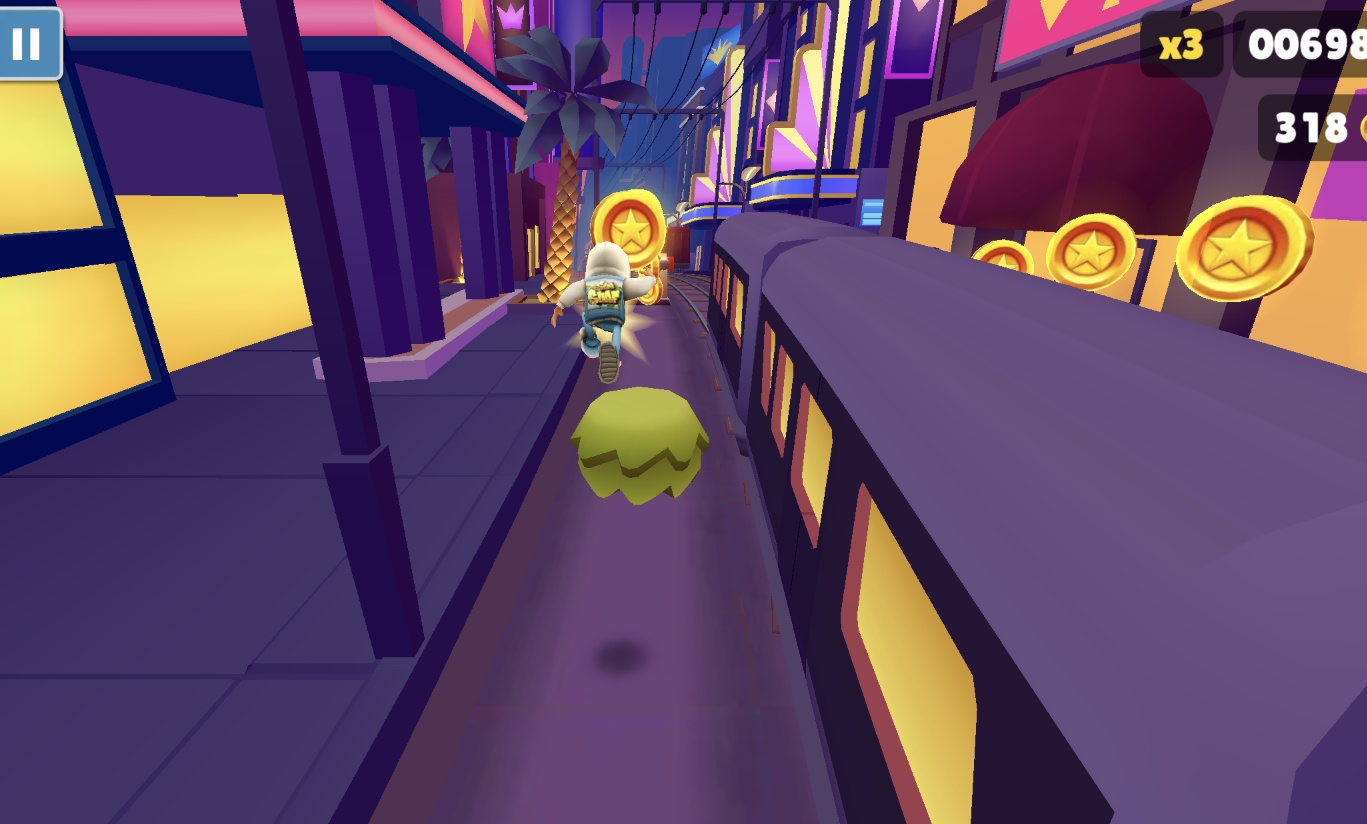bush: (570, 387, 710, 506)
ground_barrier: (652, 254, 678, 307)
train: (697, 213, 1367, 824), (654, 223, 692, 273)
